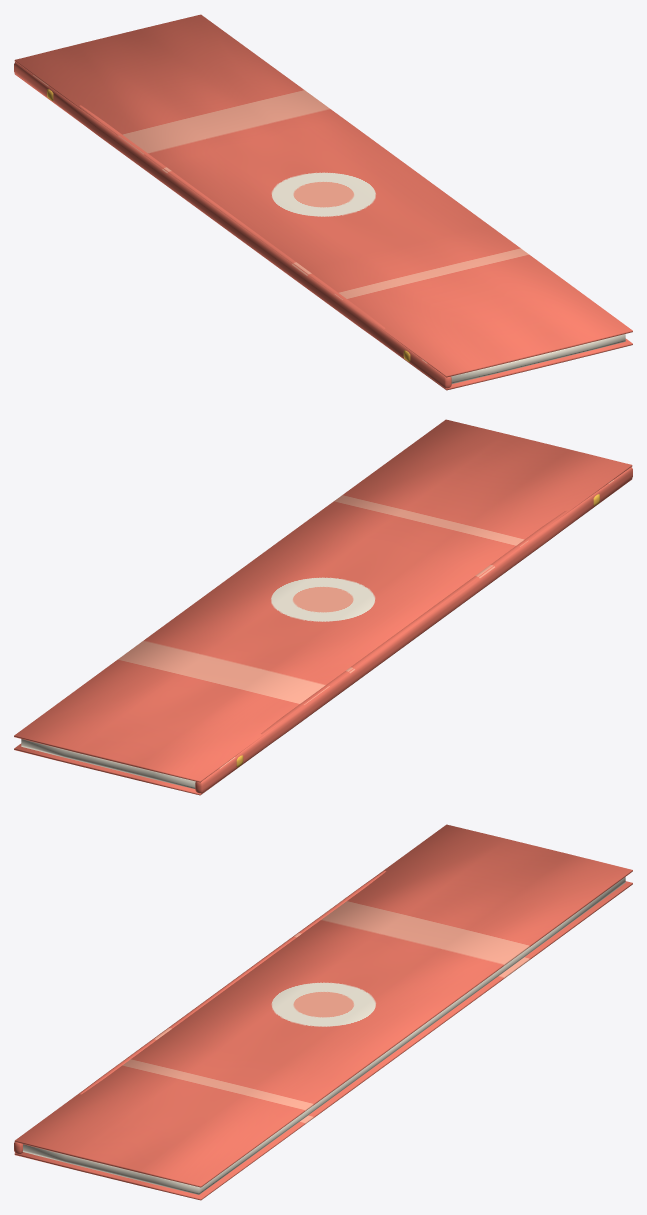
The model's file is 坡道书_珊瑚.glb.
3 views of the same model, one above another, from view 1: azimuth 30°, elevation 25°; view 2: azimuth 150°, elevation 25°; view 3: azimuth 330°, elevation 25° (orthographic).
Visible parts, largest first — view 1: RampBook_珊瑚; view 2: RampBook_珊瑚; view 3: RampBook_珊瑚.
Boxes of the visible parts, x1,y1,x2,y2 form: RampBook_珊瑚: (14,14,632,390); RampBook_珊瑚: (14,419,632,795); RampBook_珊瑚: (14,824,632,1200).
Size of what is drawn, in the model's own units: 0.2534 by 0.02 by 0.9999.
Materials: 3 (3 with a texture image).
